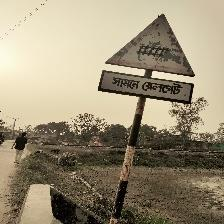Rail-crossing: (100, 14, 196, 105)
